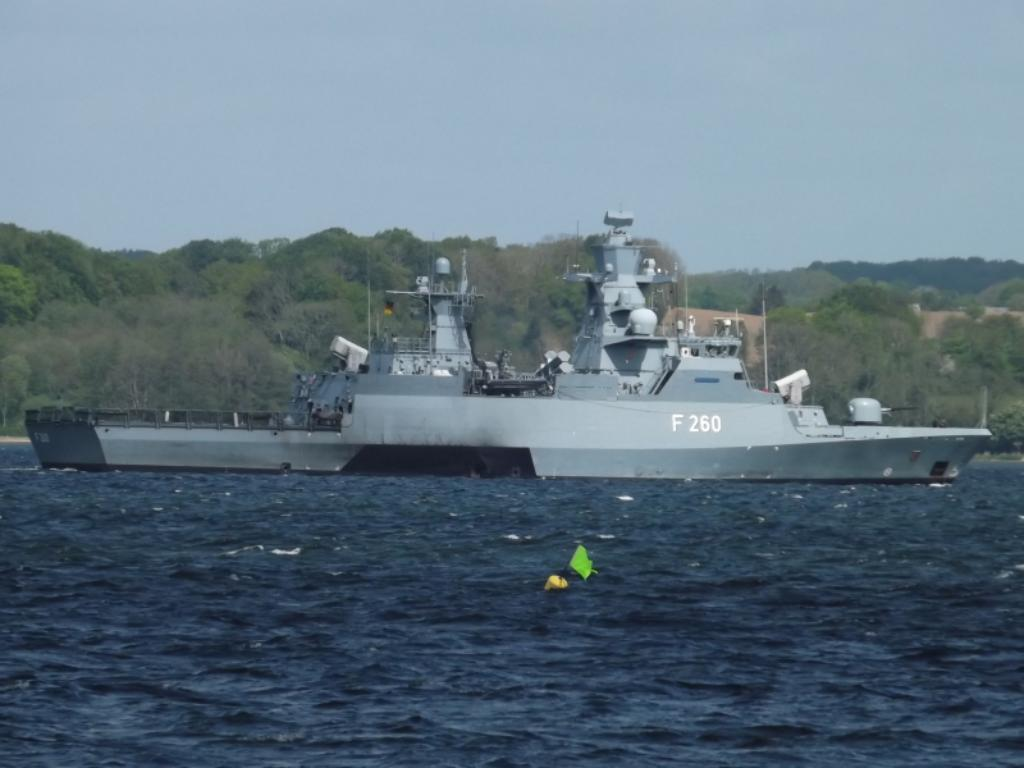Warship: (20, 204, 994, 484)
